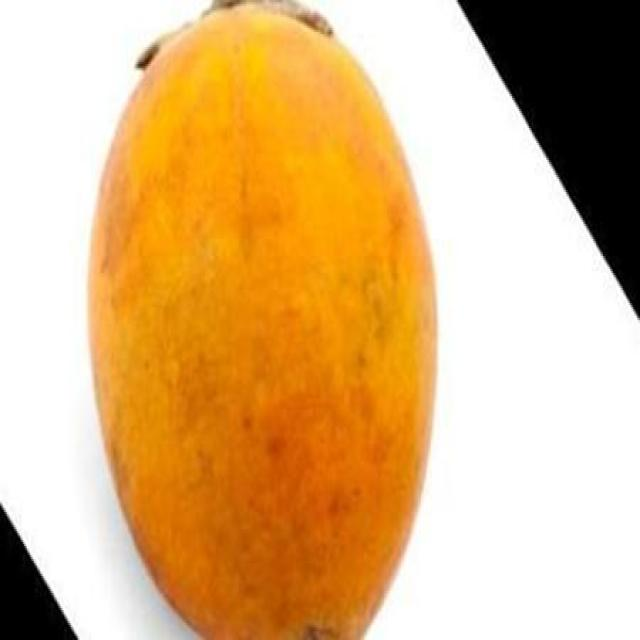good: (84, 2, 442, 638)
